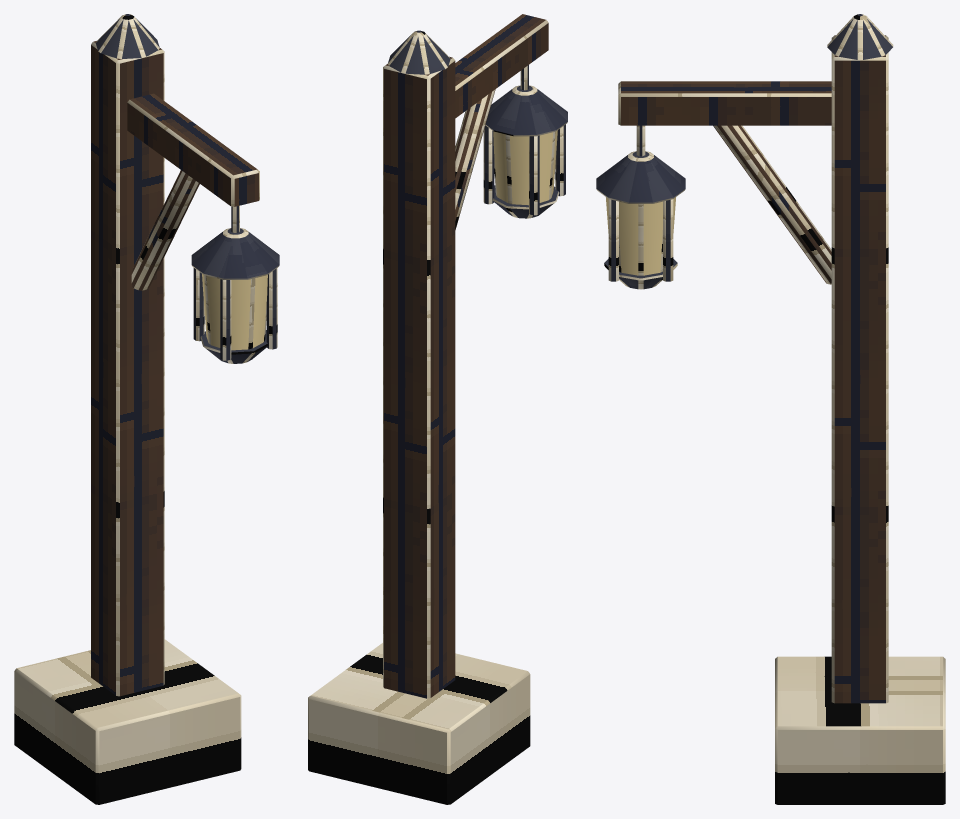
File: lantern_post_0.glb
The picture shows the model from 3 angles, left to right: view 1: azimuth 30°, elevation 25°; view 2: azimuth 150°, elevation 25°; view 3: azimuth 270°, elevation 25°; orthographic projection. The views are drawn at different scales.
Parts seen in each view (by area): view 1: lantern_post_1; view 2: lantern_post_1; view 3: lantern_post_1.
Boxes of the visible parts, box(x1,y1,x2,y2) form: lantern_post_1: box(14, 14, 279, 804); lantern_post_1: box(308, 14, 567, 804); lantern_post_1: box(596, 14, 945, 804).
Size of the model in its own units: 0.6 by 2.92 by 1.23.
Materials: 4 (4 with a texture image).
